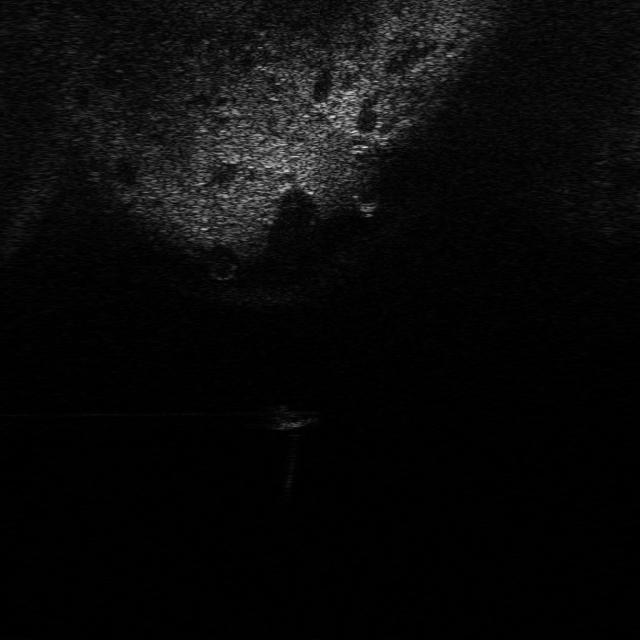ball: (347, 170, 383, 213)
cube: (263, 400, 323, 432)
